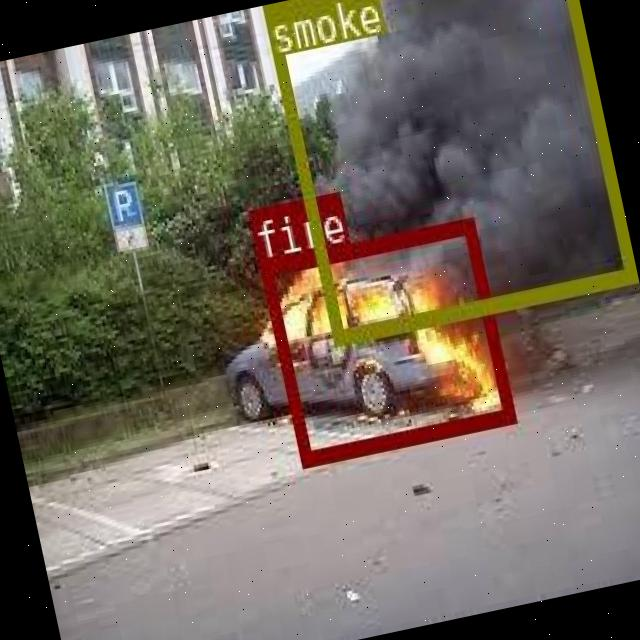fire: (257, 215, 512, 463)
smoke: (259, 0, 633, 341)
